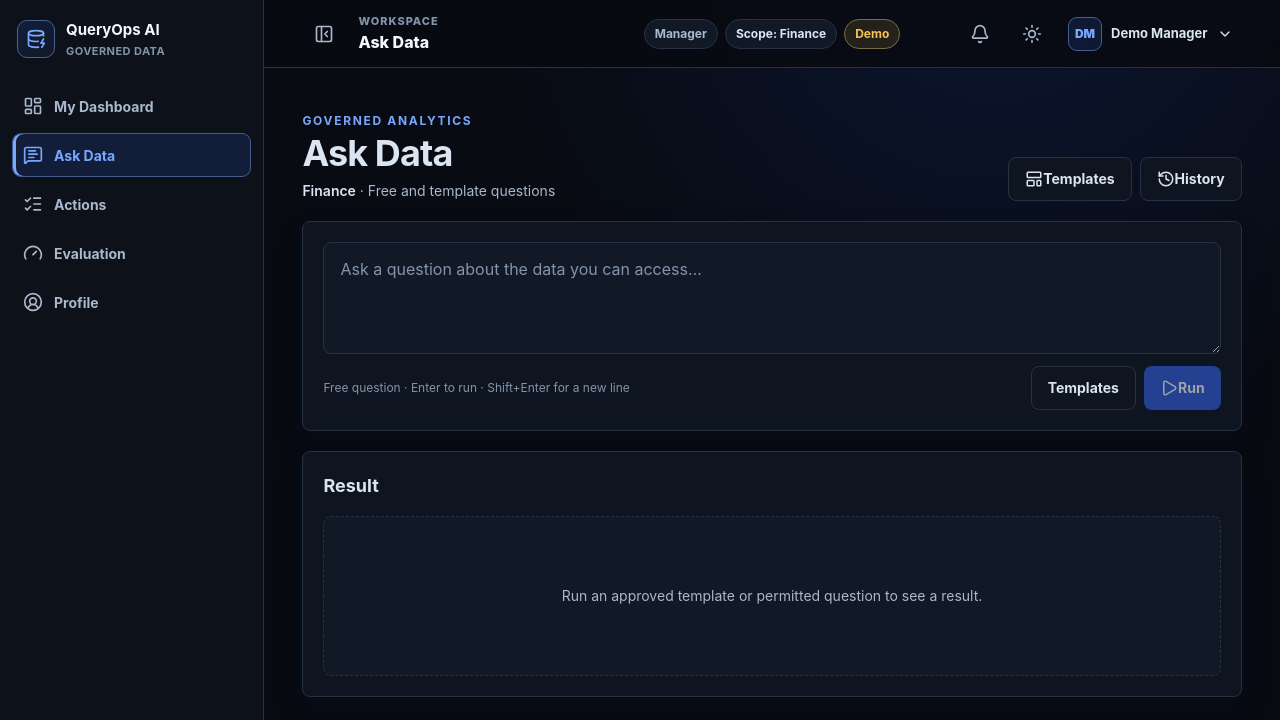
Test case: App › clears a selected template association when a free-query user edits its question
Click the button "Templates" in the row of "Free and template questions" at (1070, 179), box [1008,157,1132,201]
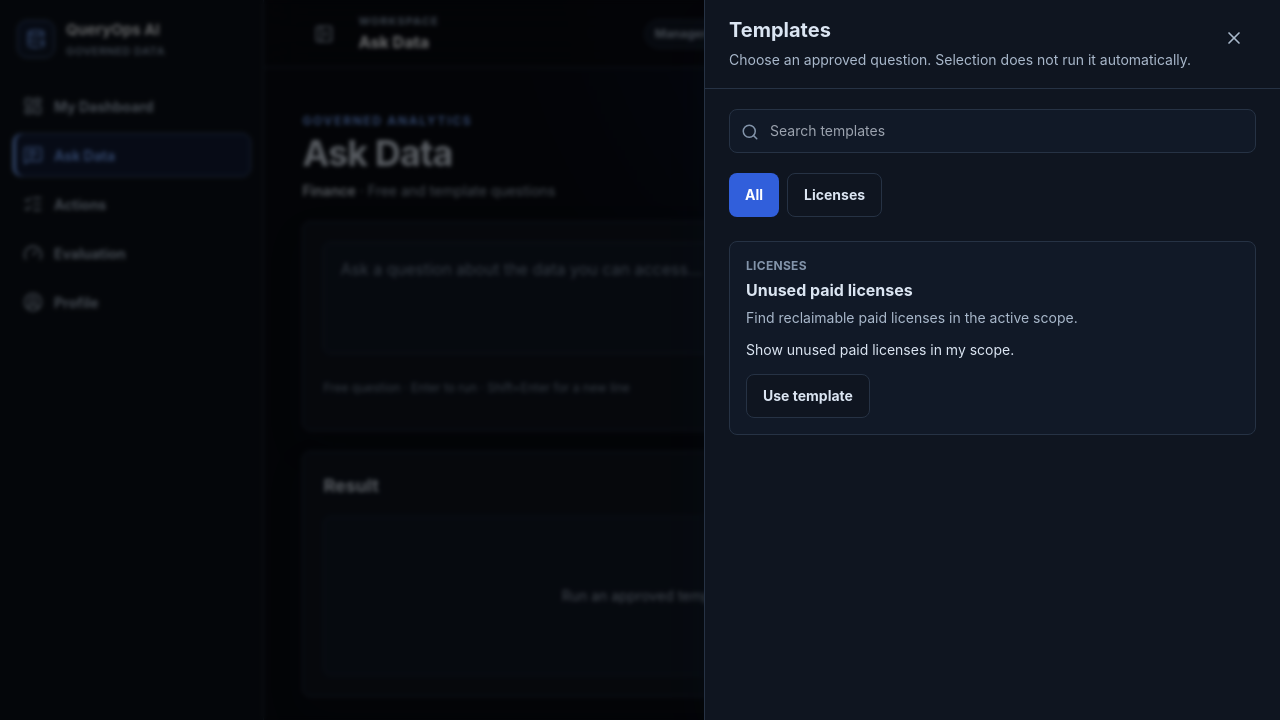
Click the button "Use template" at (808, 396), box [746,374,870,418]
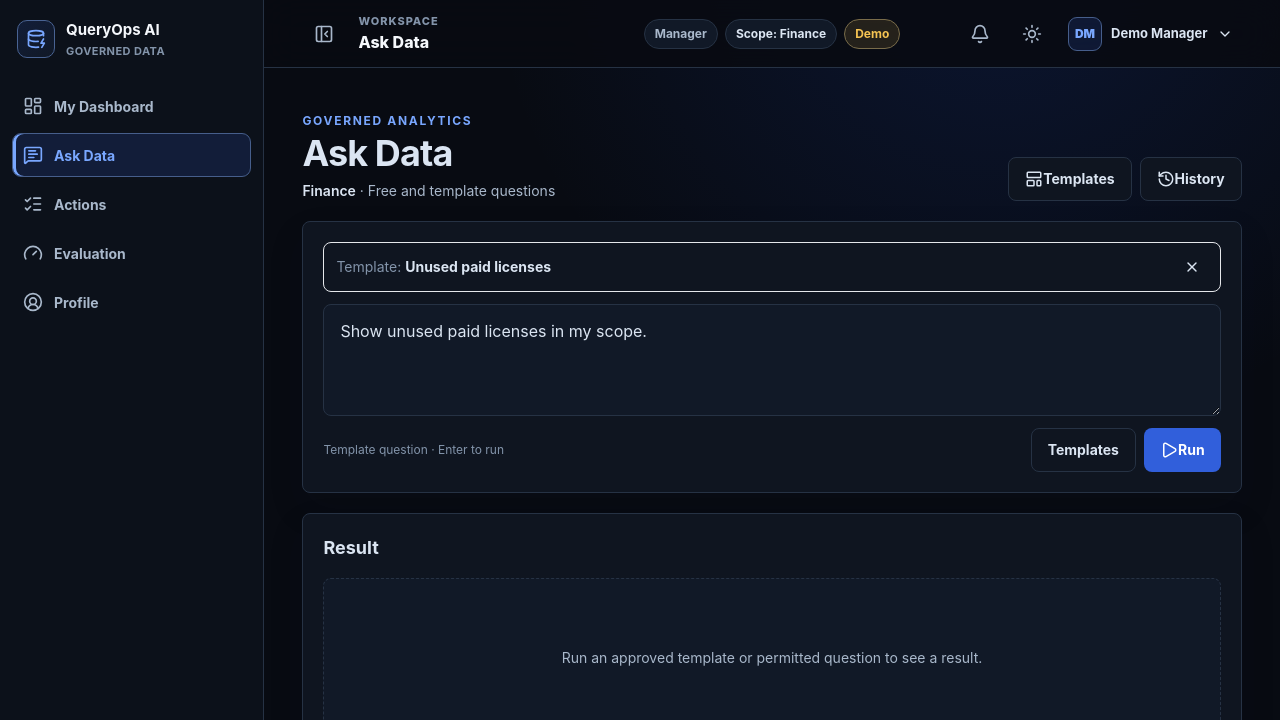
Expected: the text "Template:" is shown, [336,258,401,275]
Replace the text in the text box named "question" with "Show unused paid licenses in my active scope." at (772, 360), box [323,304,1221,416]
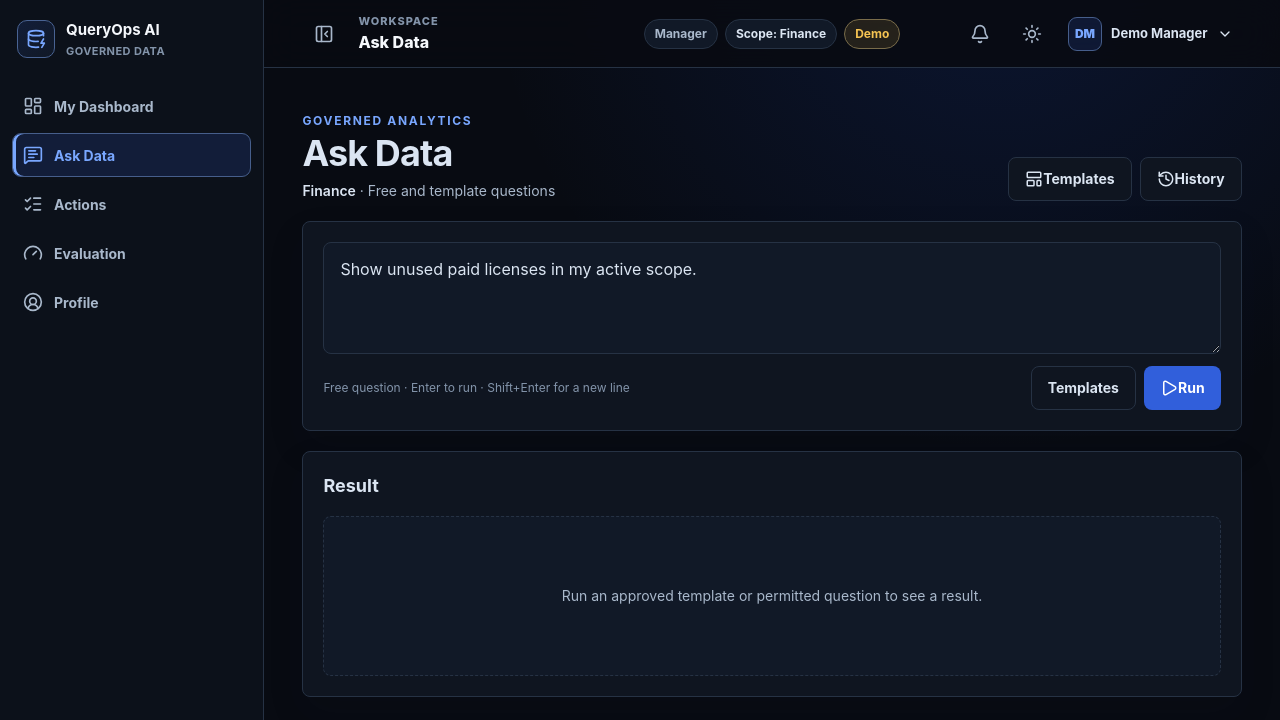
Expected: the text "Template:" is gone
Press Enter in the text box named "question", box [323,242,1221,354]
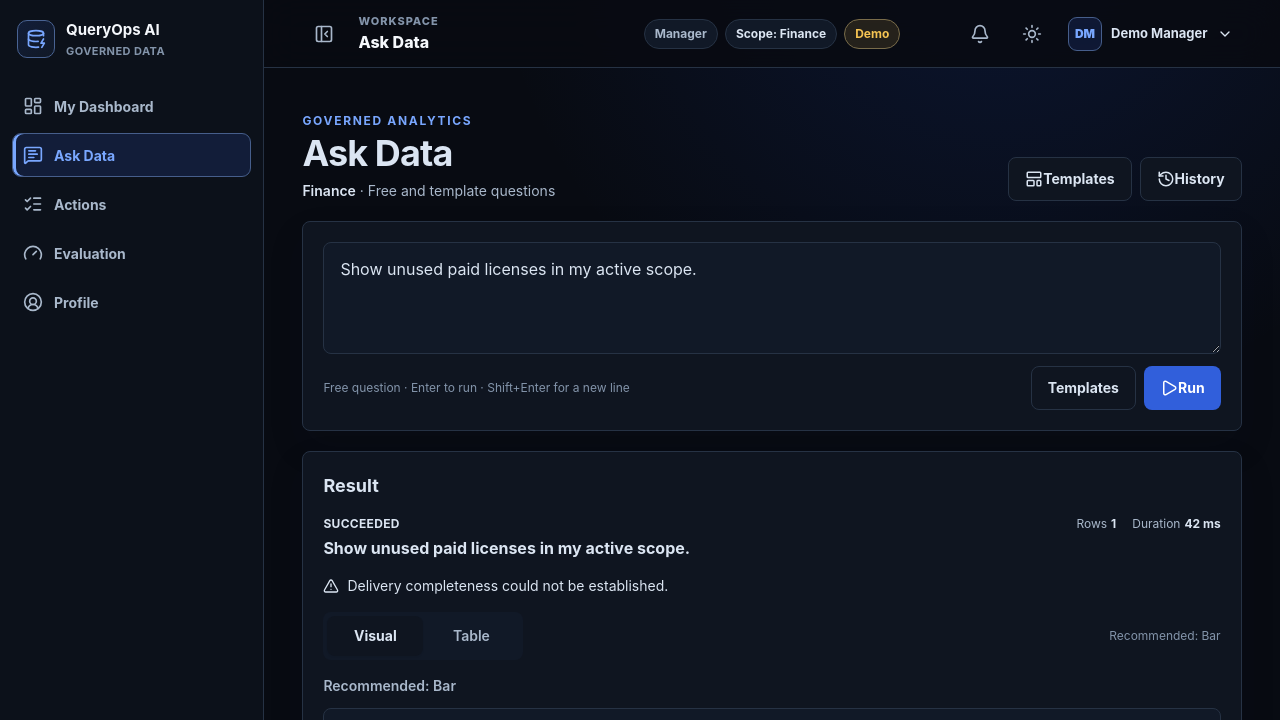
Expected: the text "succeeded" is shown, [323,516,400,531]
